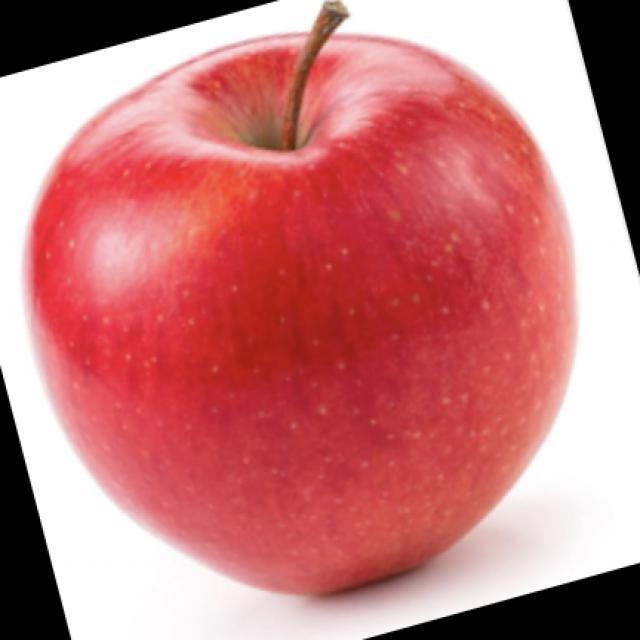Fresh Apple: (37, 37, 543, 598)
